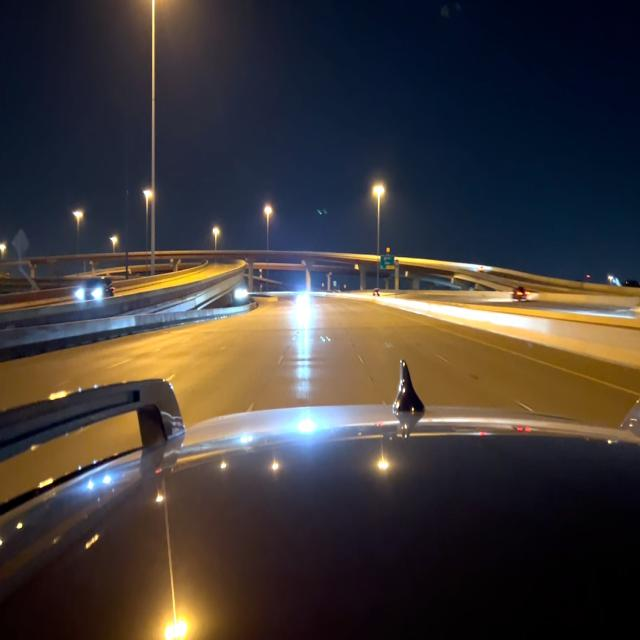back-of-sign: (13, 228, 30, 258)
